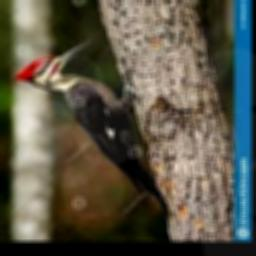Woodpecker: (16, 39, 169, 216)
